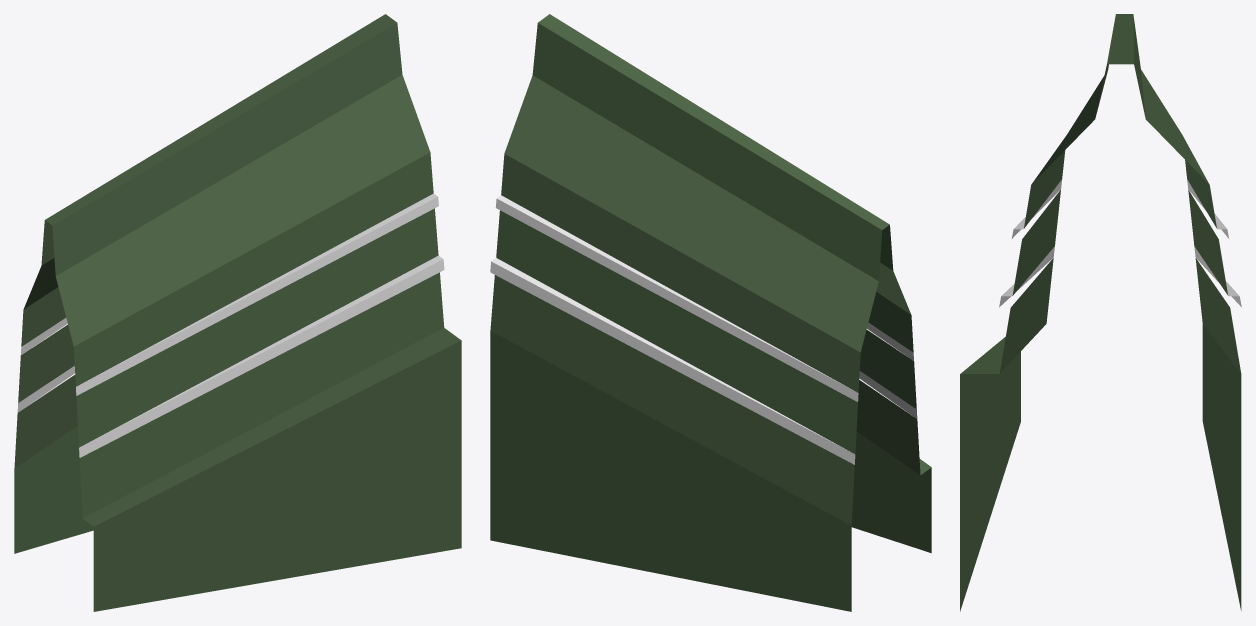
The model's file is Wand_Rechts.fbx.
3 renders of one model, left to right at view 1: azimuth 30°, elevation 25°; view 2: azimuth 150°, elevation 25°; view 3: azimuth 270°, elevation 25°, orthographic. The views are drawn at different scales.
Parts seen in each view (by area): view 1: Wan_Rechts; view 2: Wan_Rechts; view 3: Wan_Rechts.
Part boxes in pixels (bbox=[...]): Wan_Rechts: bbox=[14, 14, 461, 611]; Wan_Rechts: bbox=[490, 14, 931, 611]; Wan_Rechts: bbox=[960, 14, 1241, 611].
Size of the model in its own units: 100 by 134 by 62.51.
